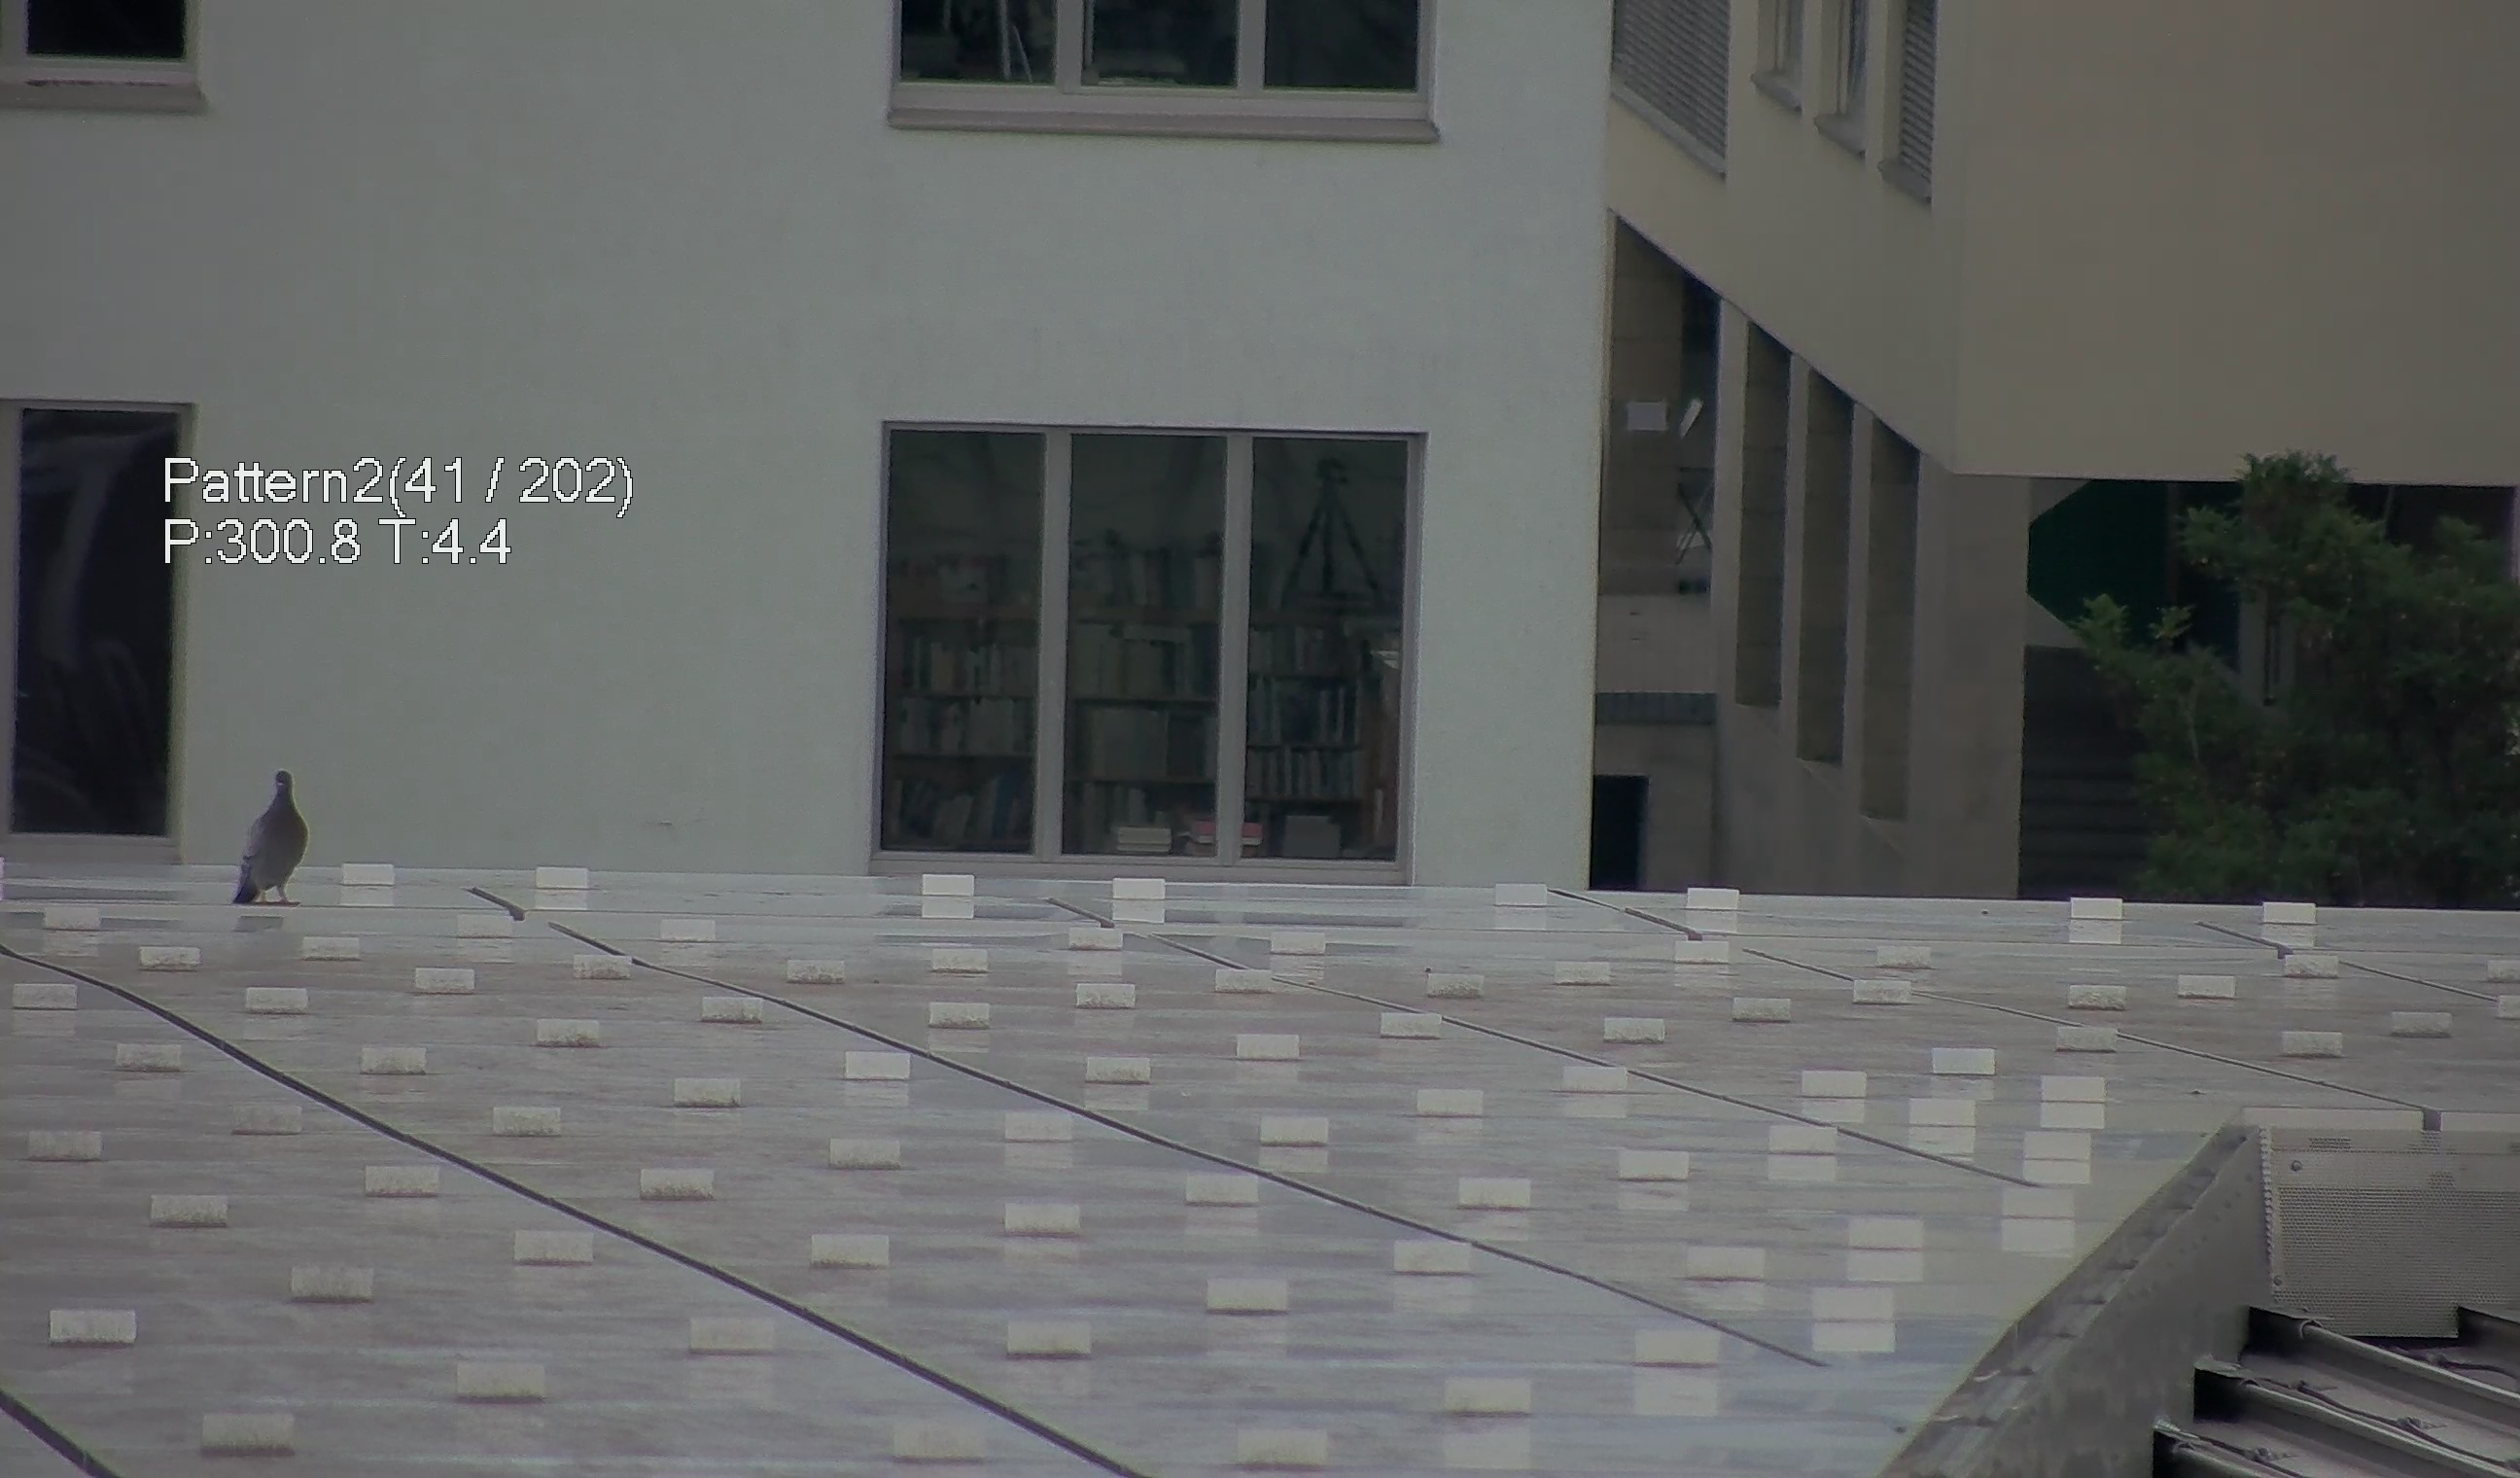Pigeon: (225, 758, 318, 915)
